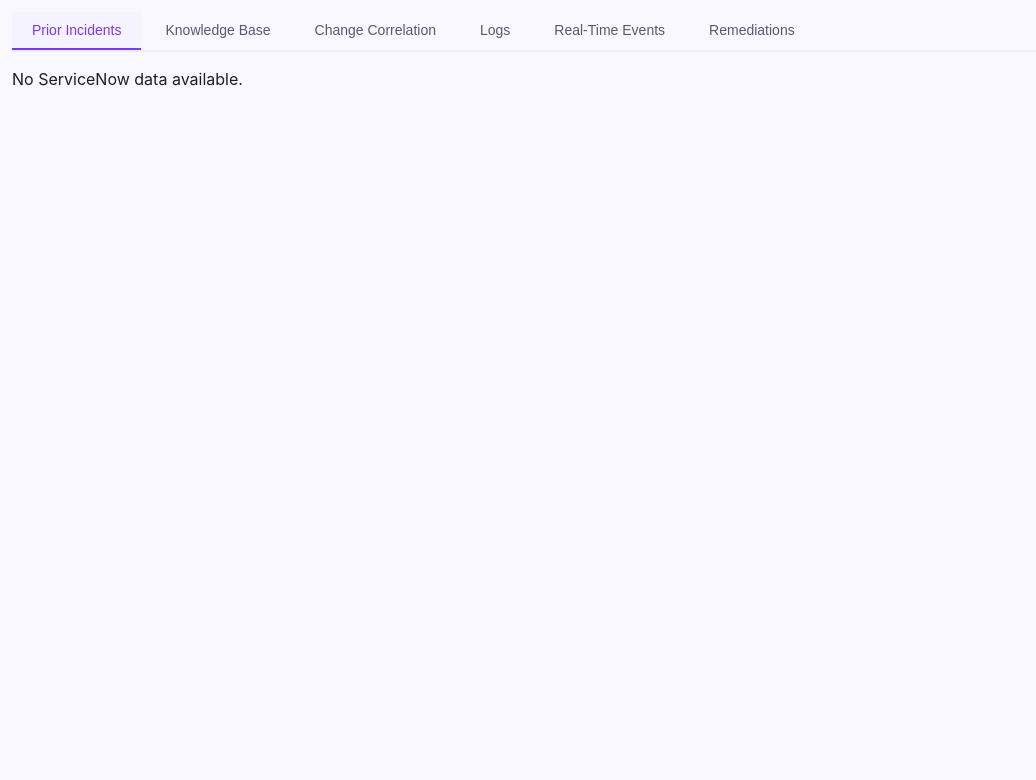
it: AgentResultsTabs - Run Script Functionality › shows loading state when running script
# Click on Remediations tab
Click the button "Remediations".
click(752, 31)  # box [689,12,815,50]
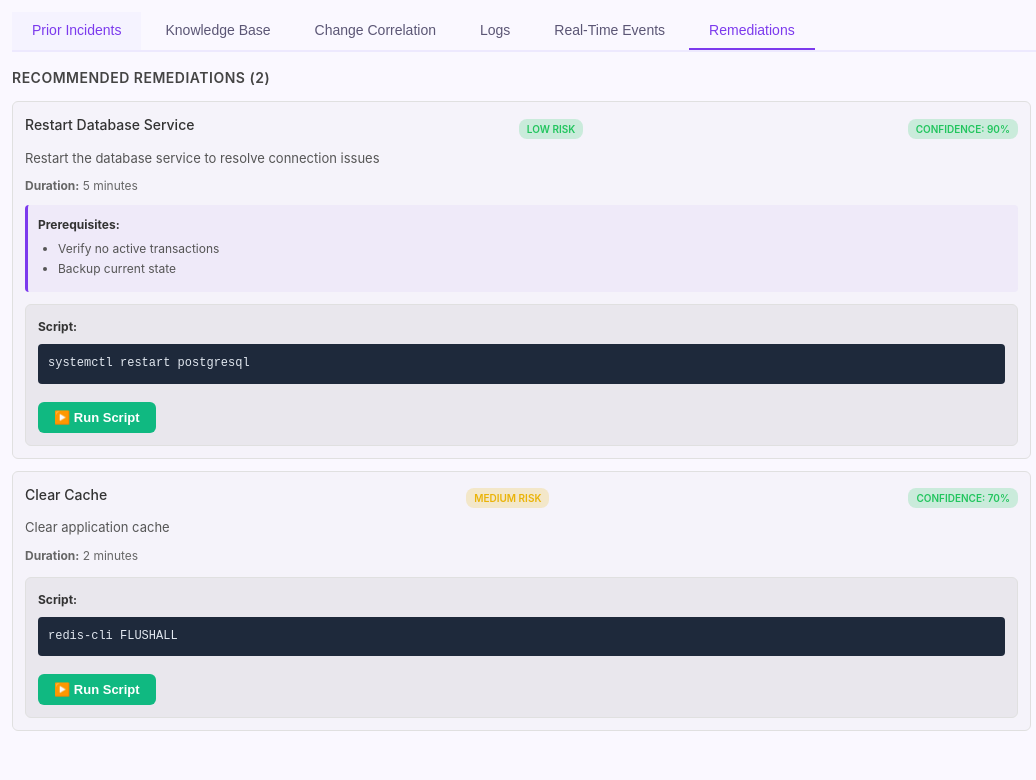
# Click first Run Script button
Click the button "▶️ Run Script" below "systemctl restart postgresql".
click(97, 417)  # box [38,402,156,433]
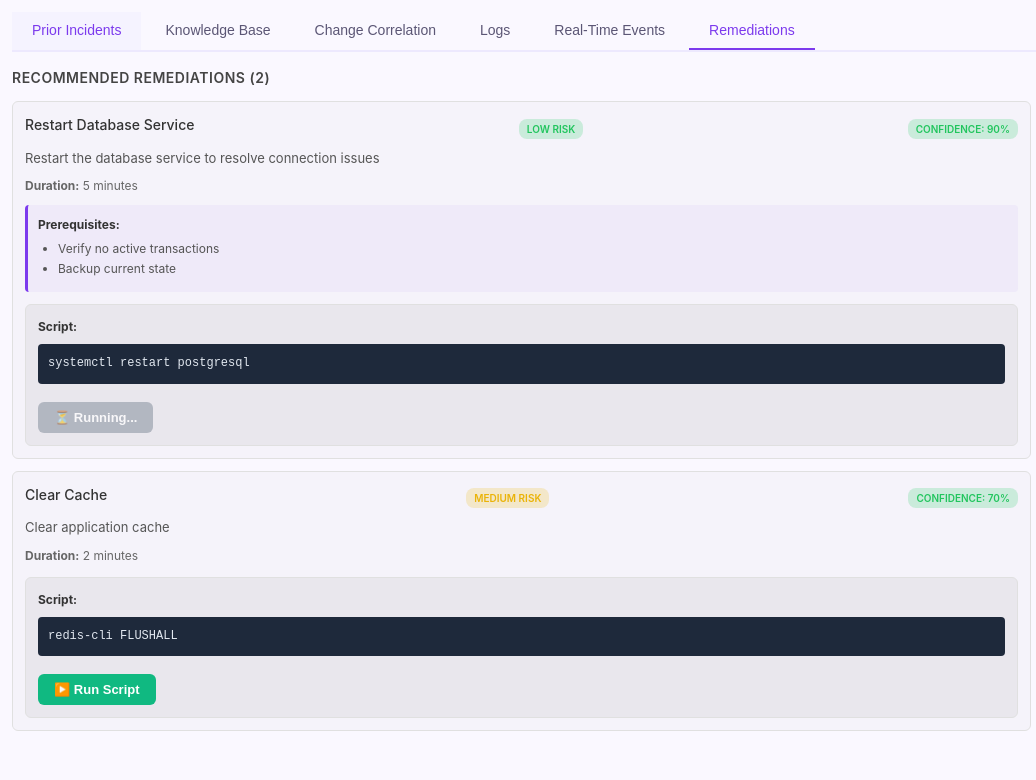
Expected: the button "⏳ Running..." is disabled, [38,402,153,433]
